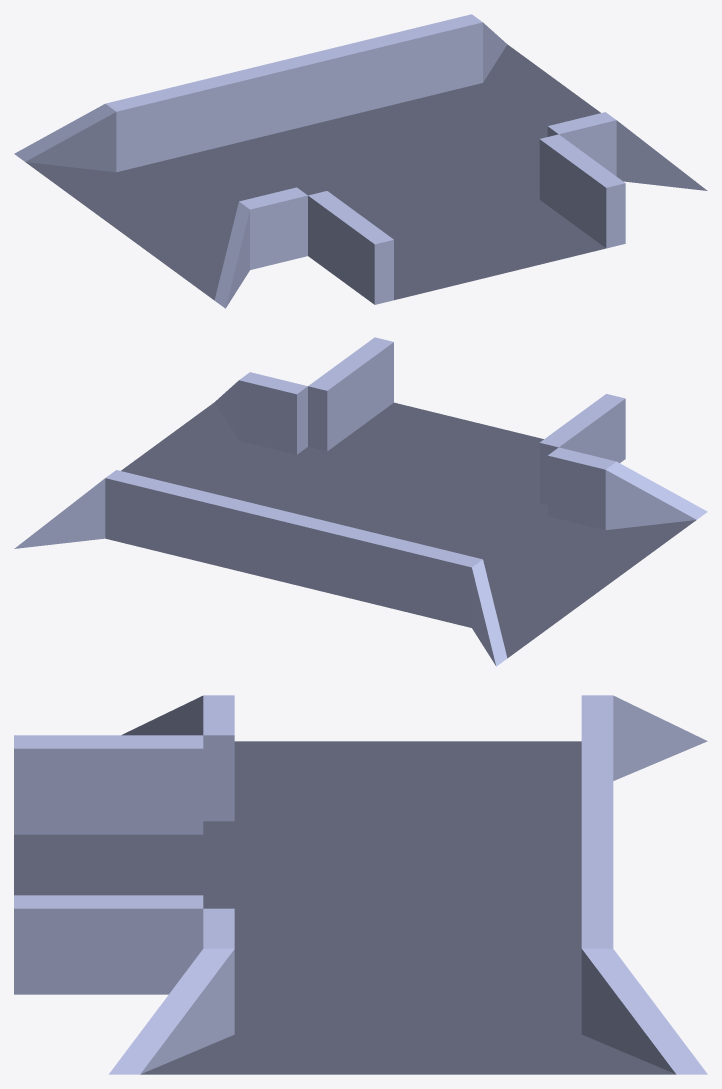
Rendered from footbridge-corridor.glb.
3 renders of one model, top to bottom at view 1: azimuth 30°, elevation 25°; view 2: azimuth 150°, elevation 25°; view 3: azimuth 270°, elevation 25°, orthographic. The views are drawn at different scales.
Visible parts, largest first — view 1: footbridge-corridor; view 2: footbridge-corridor; view 3: footbridge-corridor.
Part boxes in pixels (x1,y1,x2,y2): footbridge-corridor: (14,14,707,308); footbridge-corridor: (14,337,707,666); footbridge-corridor: (14,695,707,1074).
Size of the model in its own units: 1 by 0.12 by 0.88.
Materials: 1 (1 with a texture image).
